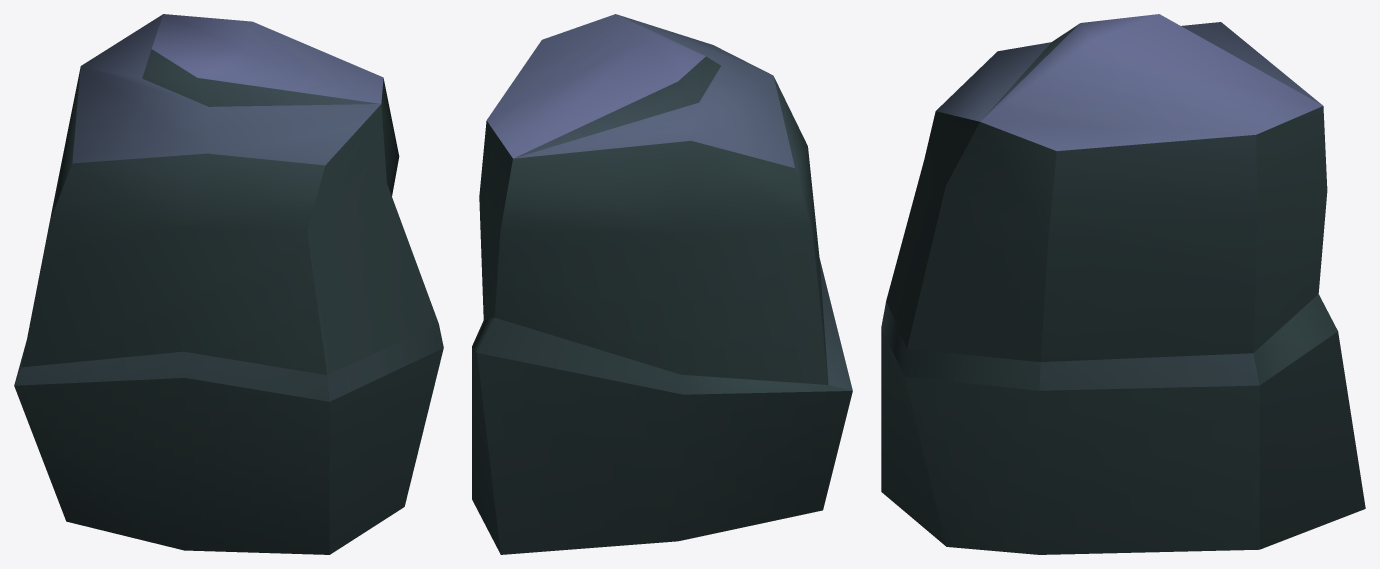
The model's file is undead_mine_stone_01.fbx.
3 views of the same model, side by side, from view 1: azimuth 30°, elevation 25°; view 2: azimuth 150°, elevation 25°; view 3: azimuth 270°, elevation 25° (orthographic). The views are drawn at different scales.
Parts seen in each view (by area): view 1: undead_mine_stone_01; view 2: undead_mine_stone_01; view 3: undead_mine_stone_01.
Part boxes in pixels (<box>): undead_mine_stone_01: <box>14,14,443,554</box>; undead_mine_stone_01: <box>472,14,852,554</box>; undead_mine_stone_01: <box>881,14,1365,554</box>.
Bounding box in the file's own units: 4.78 × 5.56 × 5.32.
